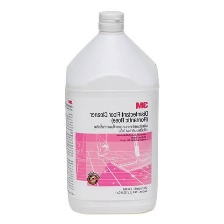cleaning_solution: (63, 7, 161, 217)
